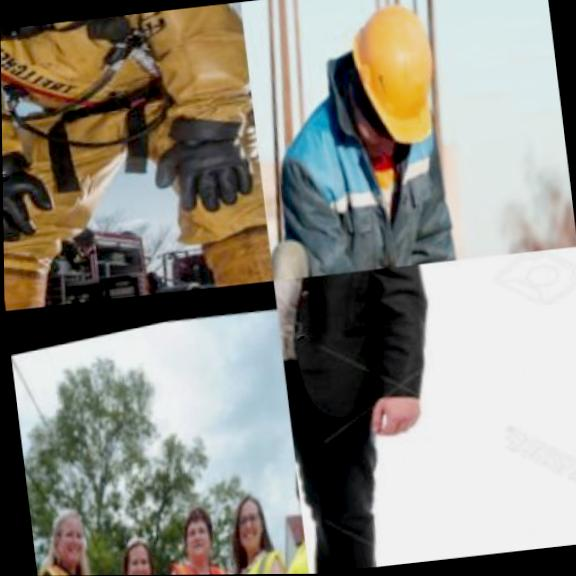safety_vest: (0, 2, 270, 282), (250, 59, 471, 279), (208, 525, 302, 575), (154, 541, 239, 575), (34, 539, 110, 576)
